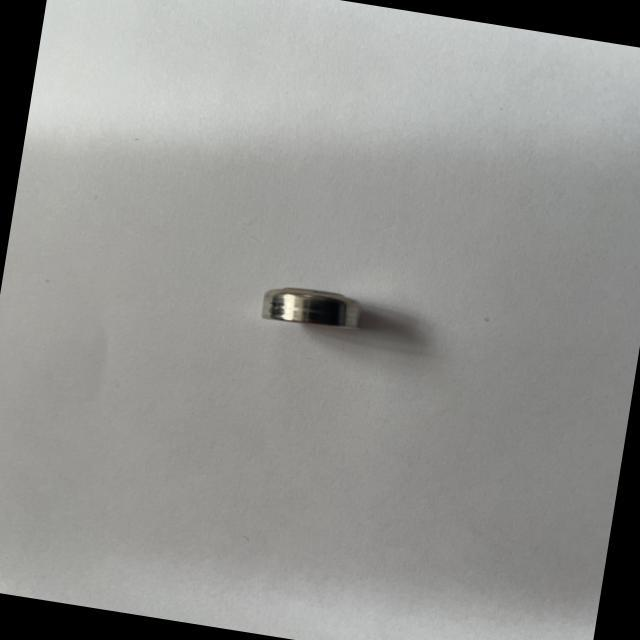COIN: (254, 272, 368, 339)
